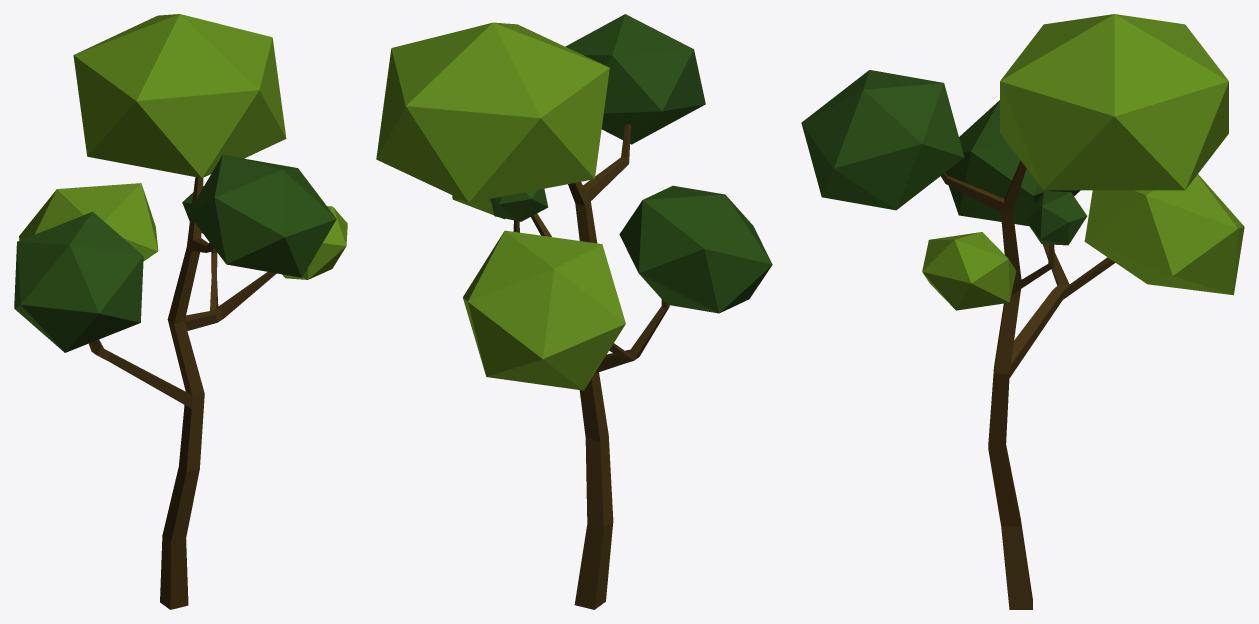
Rendered from small_tree_1.fbx.
The picture shows the model from 3 angles, left to right: view 1: azimuth 30°, elevation 25°; view 2: azimuth 150°, elevation 25°; view 3: azimuth 270°, elevation 25°; orthographic projection. The views are drawn at different scales.
Parts seen in each view (by area): view 1: GeoSphere018, GeoSphere022, GeoSphere019, Box001, GeoSphere023, GeoSphere020; view 2: GeoSphere018, GeoSphere023, GeoSphere022, GeoSphere019, Box001, GeoSphere021; view 3: GeoSphere018, GeoSphere019, GeoSphere023, Box001, GeoSphere022, GeoSphere020, GeoSphere021.
Part boxes in pixels (box(x1,y1,x2,y2)): GeoSphere018: box(73, 14, 286, 178); GeoSphere022: box(14, 211, 143, 352); GeoSphere019: box(188, 155, 336, 277); Box001: box(89, 177, 276, 609); GeoSphere023: box(19, 183, 158, 261); GeoSphere020: box(282, 206, 347, 279); GeoSphere018: box(376, 22, 609, 202); GeoSphere023: box(463, 230, 625, 390); GeoSphere022: box(619, 185, 772, 313); GeoSphere019: box(565, 14, 705, 144); Box001: box(513, 124, 669, 609); GeoSphere021: box(490, 188, 548, 221); GeoSphere018: box(1000, 14, 1228, 190); GeoSphere019: box(801, 70, 964, 210); GeoSphere023: box(1084, 174, 1244, 295); Box001: box(941, 160, 1115, 609); GeoSphere022: box(945, 100, 1080, 225); GeoSphere020: box(922, 232, 1016, 310); GeoSphere021: box(1025, 191, 1087, 245).
Bounding box in the file's own units: 172 × 289 × 188.
